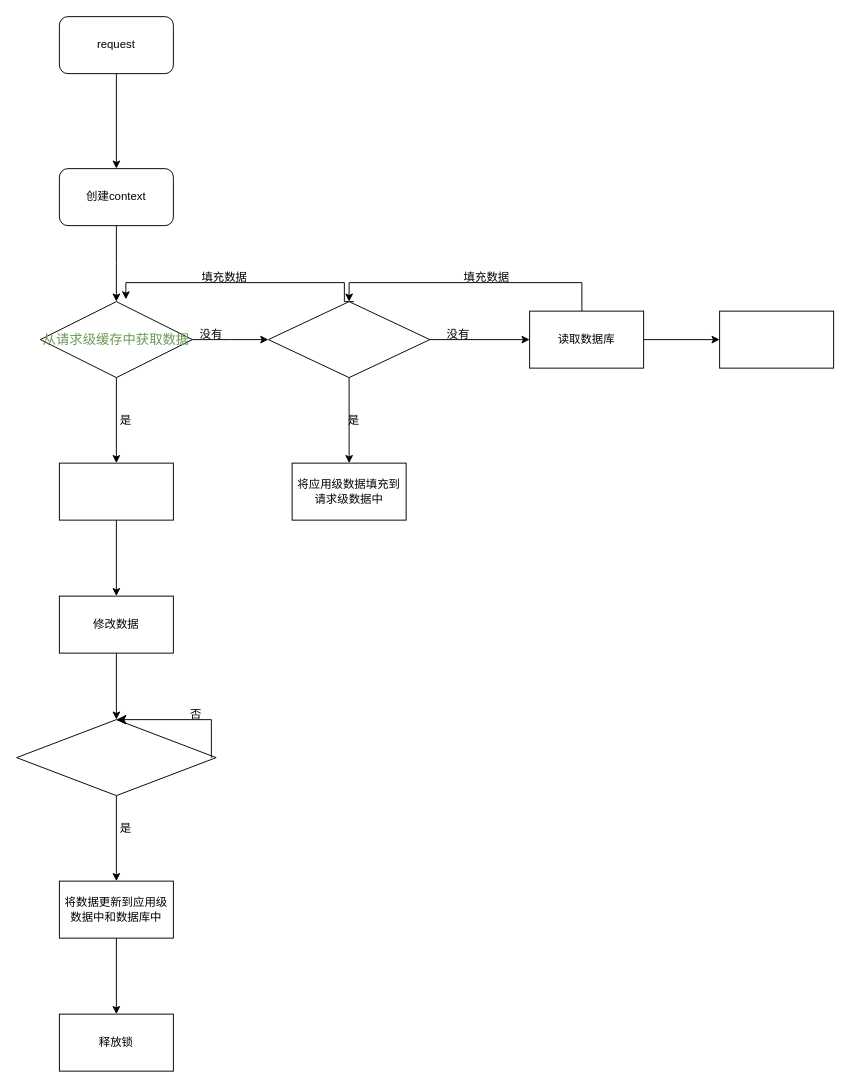
This 850x1088 diagram has some shape labels left out. The centre of each missing label's shape, as x and y in pixels:
从应用级 缓存中获取数据: point 348,339
填充数据到应用级缓存中: point 776,339
是否获得了应用级锁: point 116,757
获取数据: point 115,491
